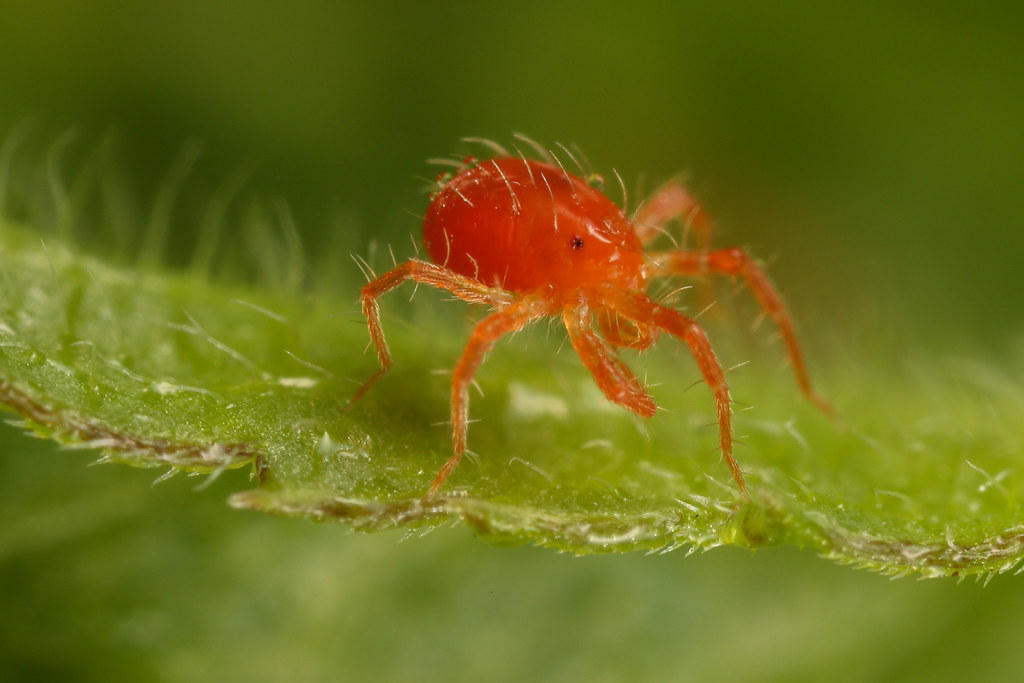Mites: (348, 120, 866, 503)
